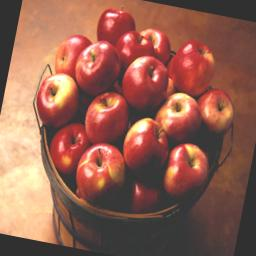Apple Ripe: (154, 126, 220, 214), (114, 108, 178, 190), (108, 42, 178, 116), (70, 136, 132, 212), (28, 62, 87, 137), (160, 33, 222, 103), (88, 3, 141, 54)
